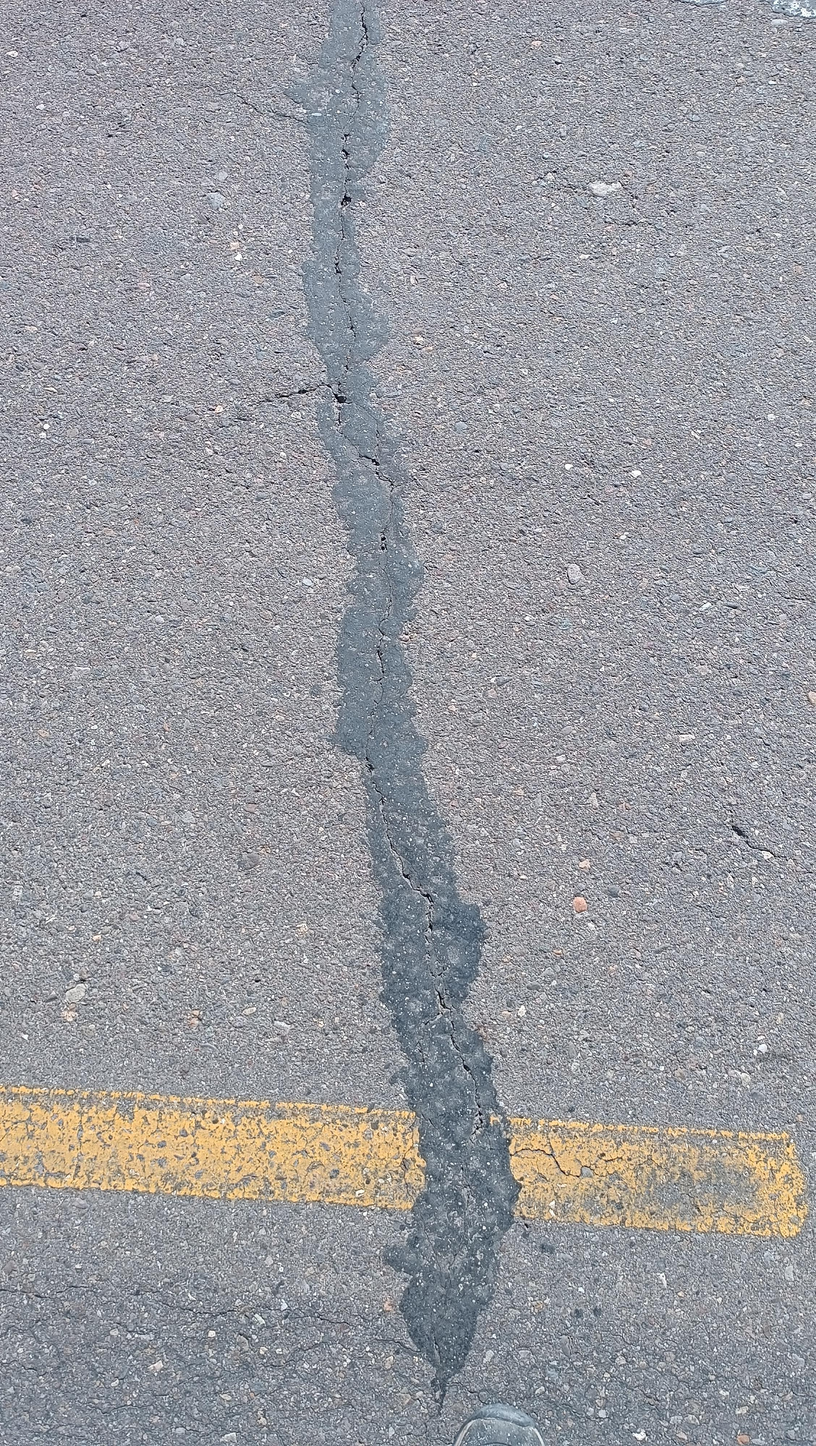GRIETA: (363, 554, 487, 1150), (334, 2, 370, 357)
PARCHE: (304, 0, 517, 1390)
PIEL DE COCODRILO: (0, 1280, 417, 1399)
